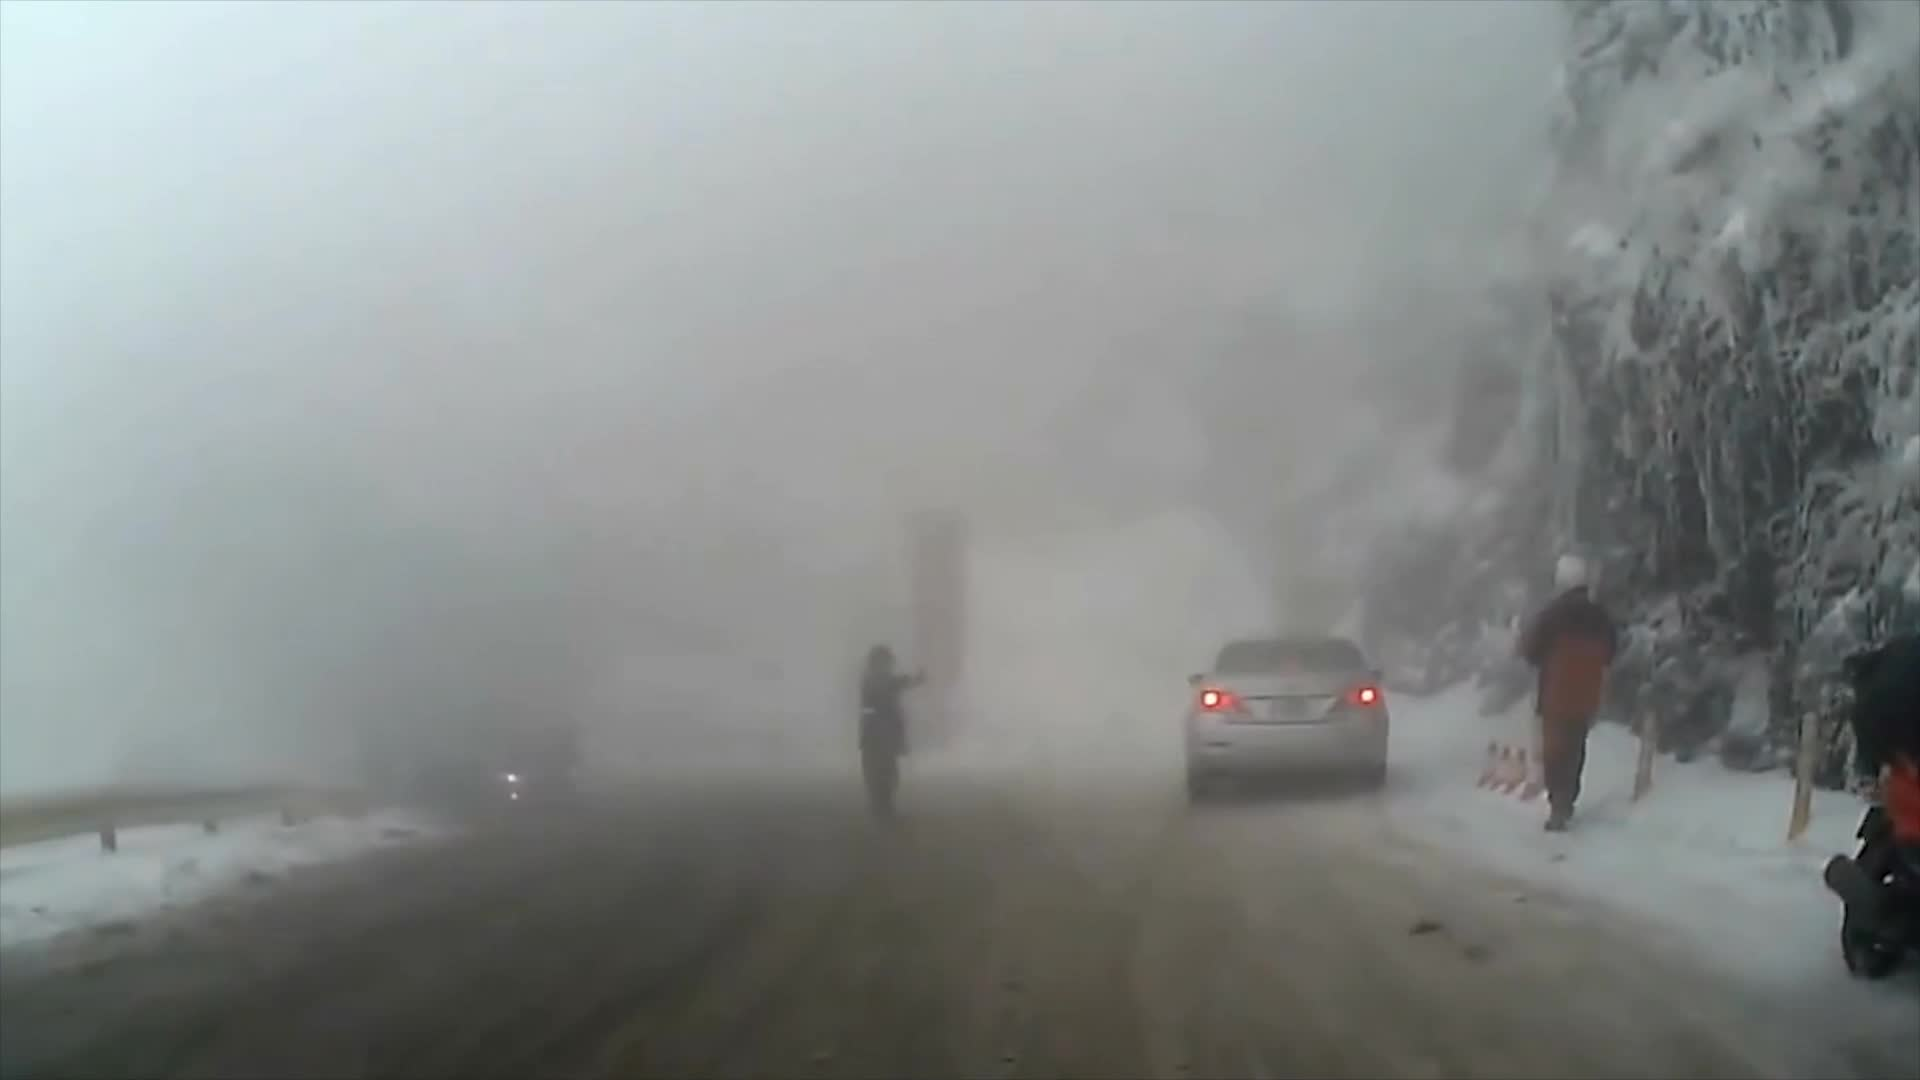pedestrian: (1520, 552, 1627, 837), (857, 644, 921, 825)
vehicle: (1184, 634, 1385, 805)
